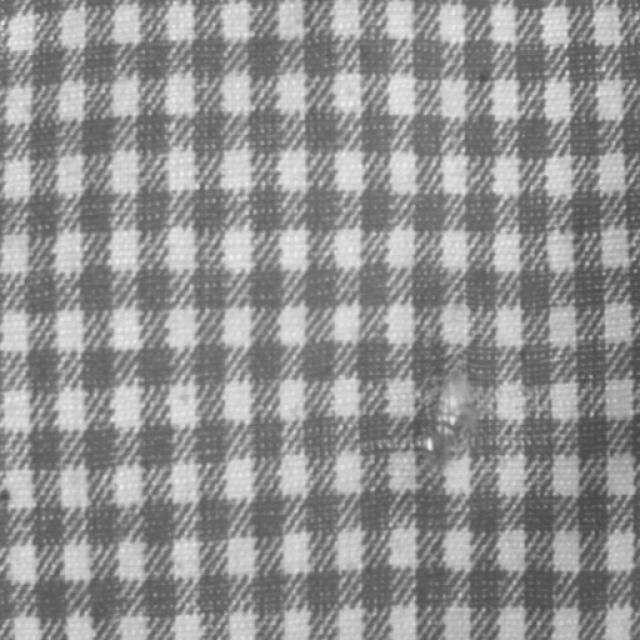Hole-Defect: (414, 369, 471, 456)
